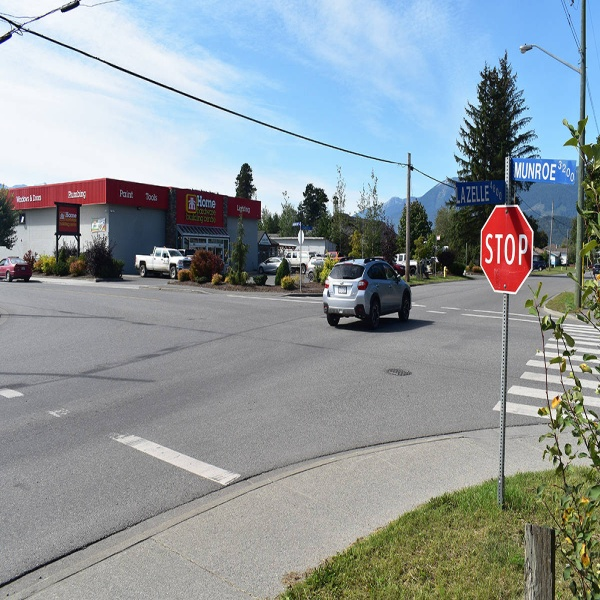stop: (478, 206, 533, 292)
